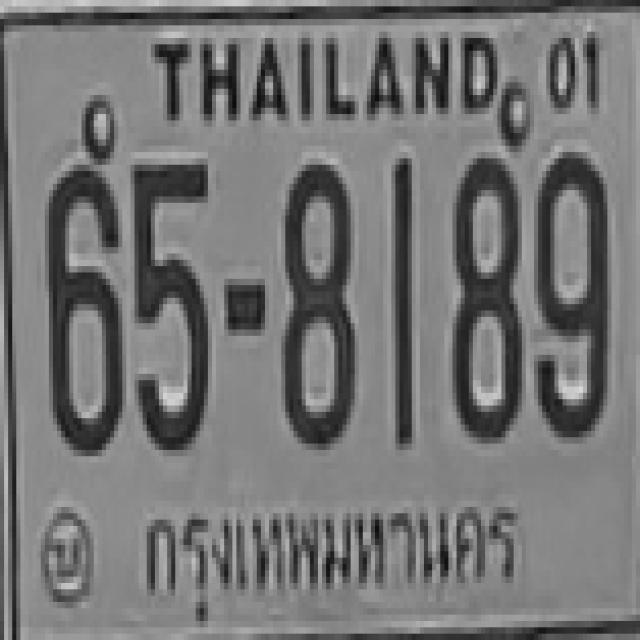1: (389, 155, 414, 447)
5: (130, 158, 208, 450)
6: (45, 165, 118, 450)
8: (281, 158, 351, 444), (448, 152, 518, 437)
9: (532, 146, 605, 431)
Bangkok: (131, 487, 528, 601)
